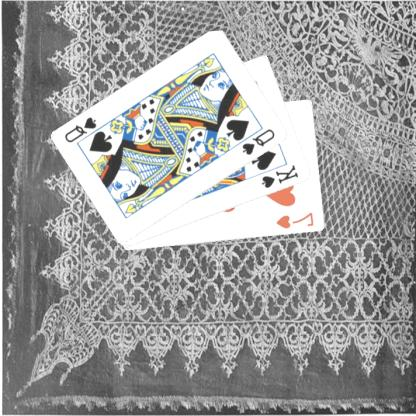7H: (275, 210, 317, 230)
KS: (261, 162, 302, 190)
QS: (241, 126, 279, 156), (63, 114, 100, 144)
